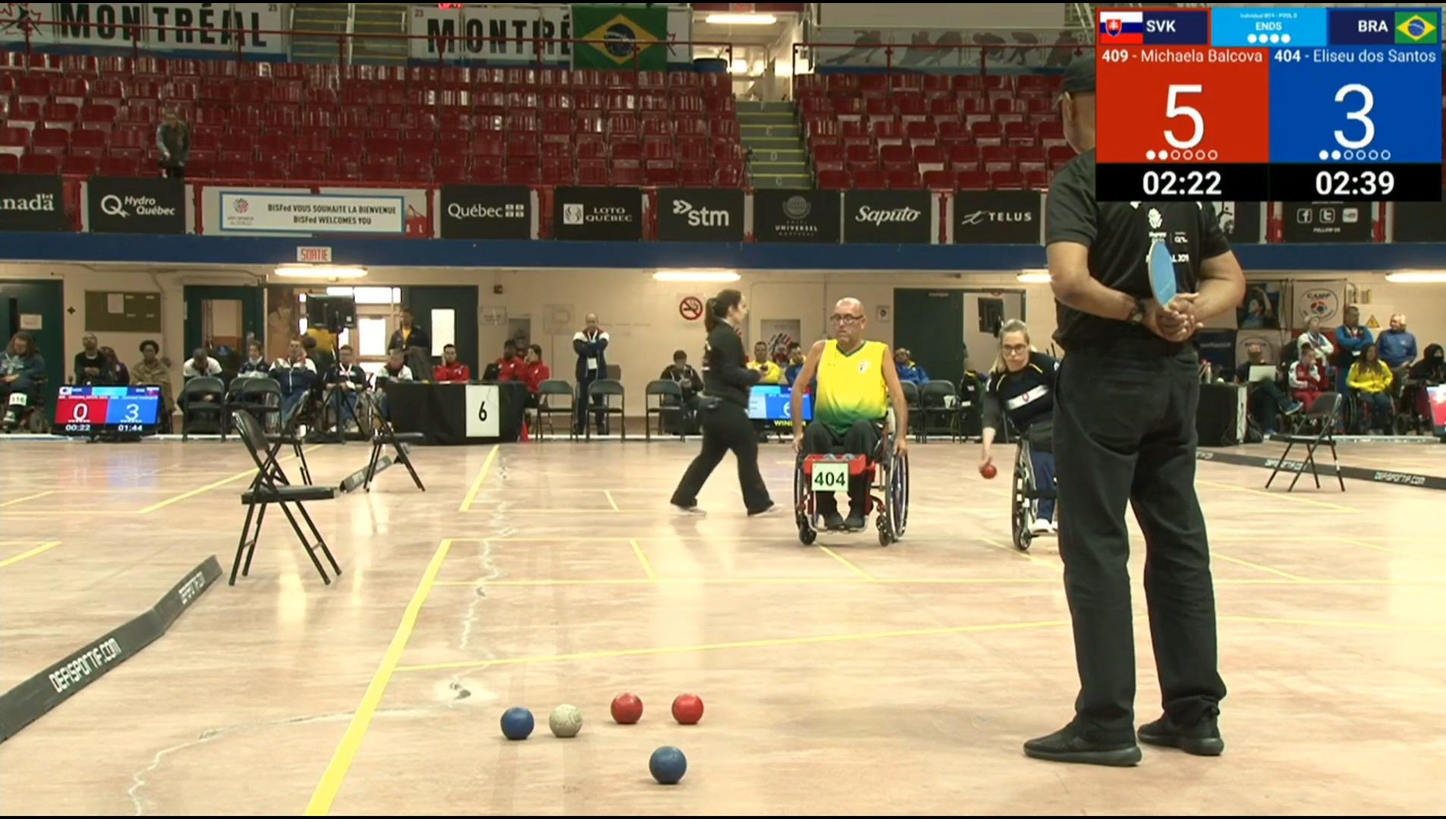blue_ball: (650, 747, 685, 784), (502, 707, 533, 740)
red_ball: (612, 693, 642, 725), (674, 694, 702, 725)
white_ball: (549, 704, 581, 737)
